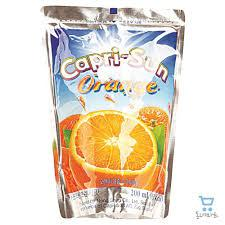cafrisun: (38, 1, 183, 223)
